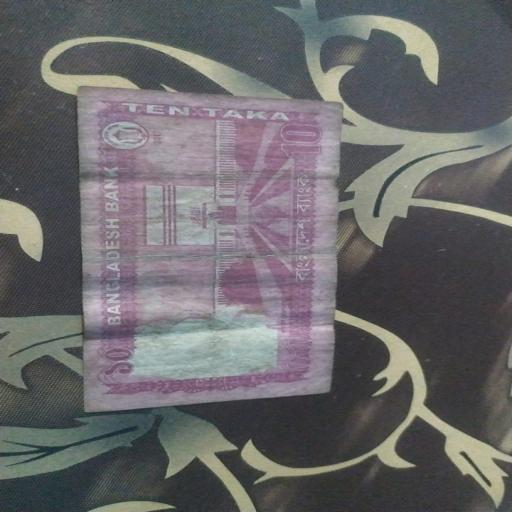10taka: (79, 87, 342, 412)
